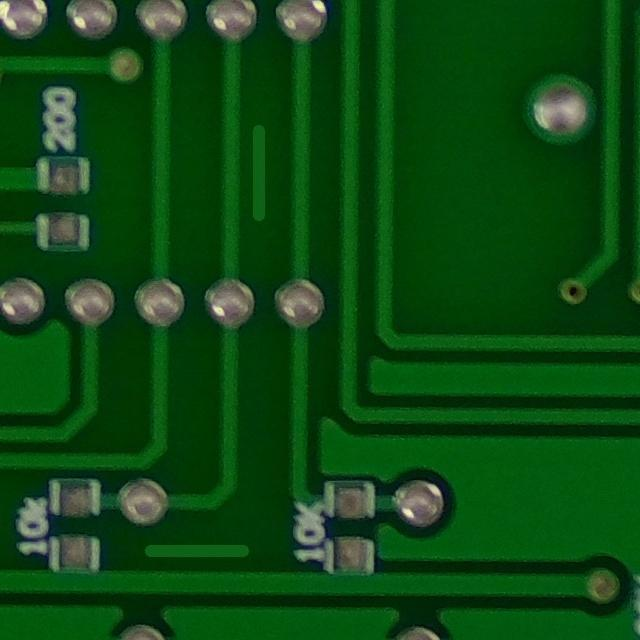spurious_copper: (238, 106, 284, 240), (134, 530, 261, 578)
